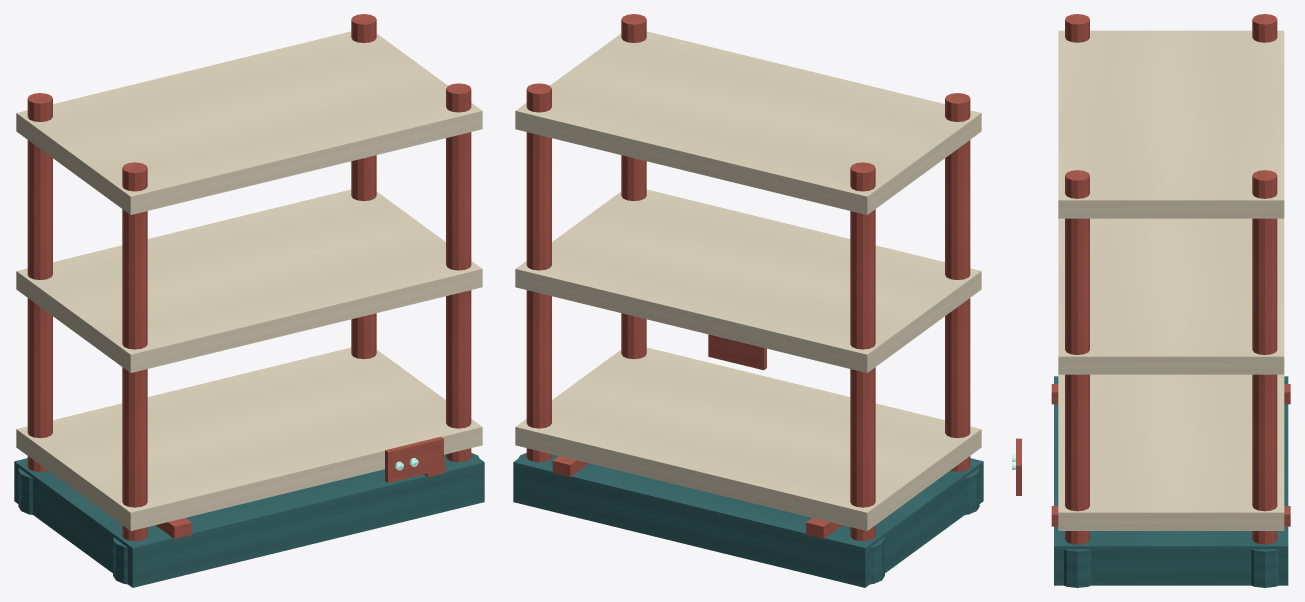
The model's file is atlas100-s031-a06.glb.
3 renders of one model, left to right at view 1: azimuth 30°, elevation 25°; view 2: azimuth 150°, elevation 25°; view 3: azimuth 270°, elevation 25°, orthographic.
Visible parts, largest first — view 1: atlas100-s031-a06:part-013, atlas100-s031-a06:part-012, atlas100-s031-a06:part-011, atlas100-s031-a06:part-000, atlas100-s031-a06:part-005, atlas100-s031-a06:part-009, atlas100-s031-a06:part-003, atlas100-s031-a06:part-007, atlas100-s031-a06:part-014, atlas100-s031-a06:part-006, atlas100-s031-a06:part-004; view 2: atlas100-s031-a06:part-013, atlas100-s031-a06:part-012, atlas100-s031-a06:part-011, atlas100-s031-a06:part-000, atlas100-s031-a06:part-003, atlas100-s031-a06:part-007, atlas100-s031-a06:part-005, atlas100-s031-a06:part-009, atlas100-s031-a06:part-014, atlas100-s031-a06:part-004, atlas100-s031-a06:part-006; view 3: atlas100-s031-a06:part-013, atlas100-s031-a06:part-012, atlas100-s031-a06:part-011, atlas100-s031-a06:part-000, atlas100-s031-a06:part-007, atlas100-s031-a06:part-009, atlas100-s031-a06:part-010, atlas100-s031-a06:part-008, atlas100-s031-a06:part-003, atlas100-s031-a06:part-005.
Part boxes in pixels (box(x1,y1,x2,y2)): atlas100-s031-a06:part-013: box(16, 31, 482, 214); atlas100-s031-a06:part-012: box(16, 189, 482, 372); atlas100-s031-a06:part-011: box(16, 347, 482, 530); atlas100-s031-a06:part-000: box(14, 453, 484, 587); atlas100-s031-a06:part-005: box(122, 162, 147, 541); atlas100-s031-a06:part-009: box(446, 83, 471, 462); atlas100-s031-a06:part-003: box(27, 93, 52, 471); atlas100-s031-a06:part-007: box(351, 14, 376, 359); atlas100-s031-a06:part-014: box(385, 436, 443, 482); atlas100-s031-a06:part-006: box(113, 537, 127, 584); atlas100-s031-a06:part-004: box(18, 468, 32, 514); atlas100-s031-a06:part-013: box(515, 31, 981, 214); atlas100-s031-a06:part-012: box(515, 189, 981, 372); atlas100-s031-a06:part-011: box(515, 347, 981, 530); atlas100-s031-a06:part-000: box(513, 453, 983, 587); atlas100-s031-a06:part-003: box(850, 162, 875, 541); atlas100-s031-a06:part-007: box(526, 83, 551, 462); atlas100-s031-a06:part-005: box(945, 93, 970, 471); atlas100-s031-a06:part-009: box(621, 14, 646, 359); atlas100-s031-a06:part-014: box(708, 334, 766, 370); atlas100-s031-a06:part-004: box(870, 537, 884, 584); atlas100-s031-a06:part-006: box(965, 468, 979, 514); atlas100-s031-a06:part-013: box(1058, 30, 1284, 218); atlas100-s031-a06:part-012: box(1058, 218, 1284, 374); atlas100-s031-a06:part-011: box(1058, 374, 1284, 530); atlas100-s031-a06:part-000: box(1054, 376, 1288, 585); atlas100-s031-a06:part-007: box(1252, 170, 1277, 544); atlas100-s031-a06:part-009: box(1065, 170, 1089, 544); atlas100-s031-a06:part-010: box(1064, 549, 1091, 587); atlas100-s031-a06:part-008: box(1251, 549, 1278, 587); atlas100-s031-a06:part-003: box(1252, 14, 1277, 42); atlas100-s031-a06:part-005: box(1065, 14, 1089, 42).
Size of the model in its own units: 2.47 by 2.66 by 1.66.
Materials: 4 (4 with a texture image).
